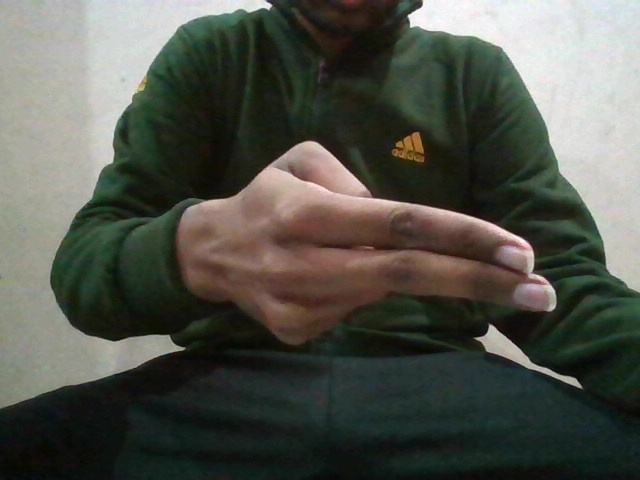H: (183, 138, 562, 359)
